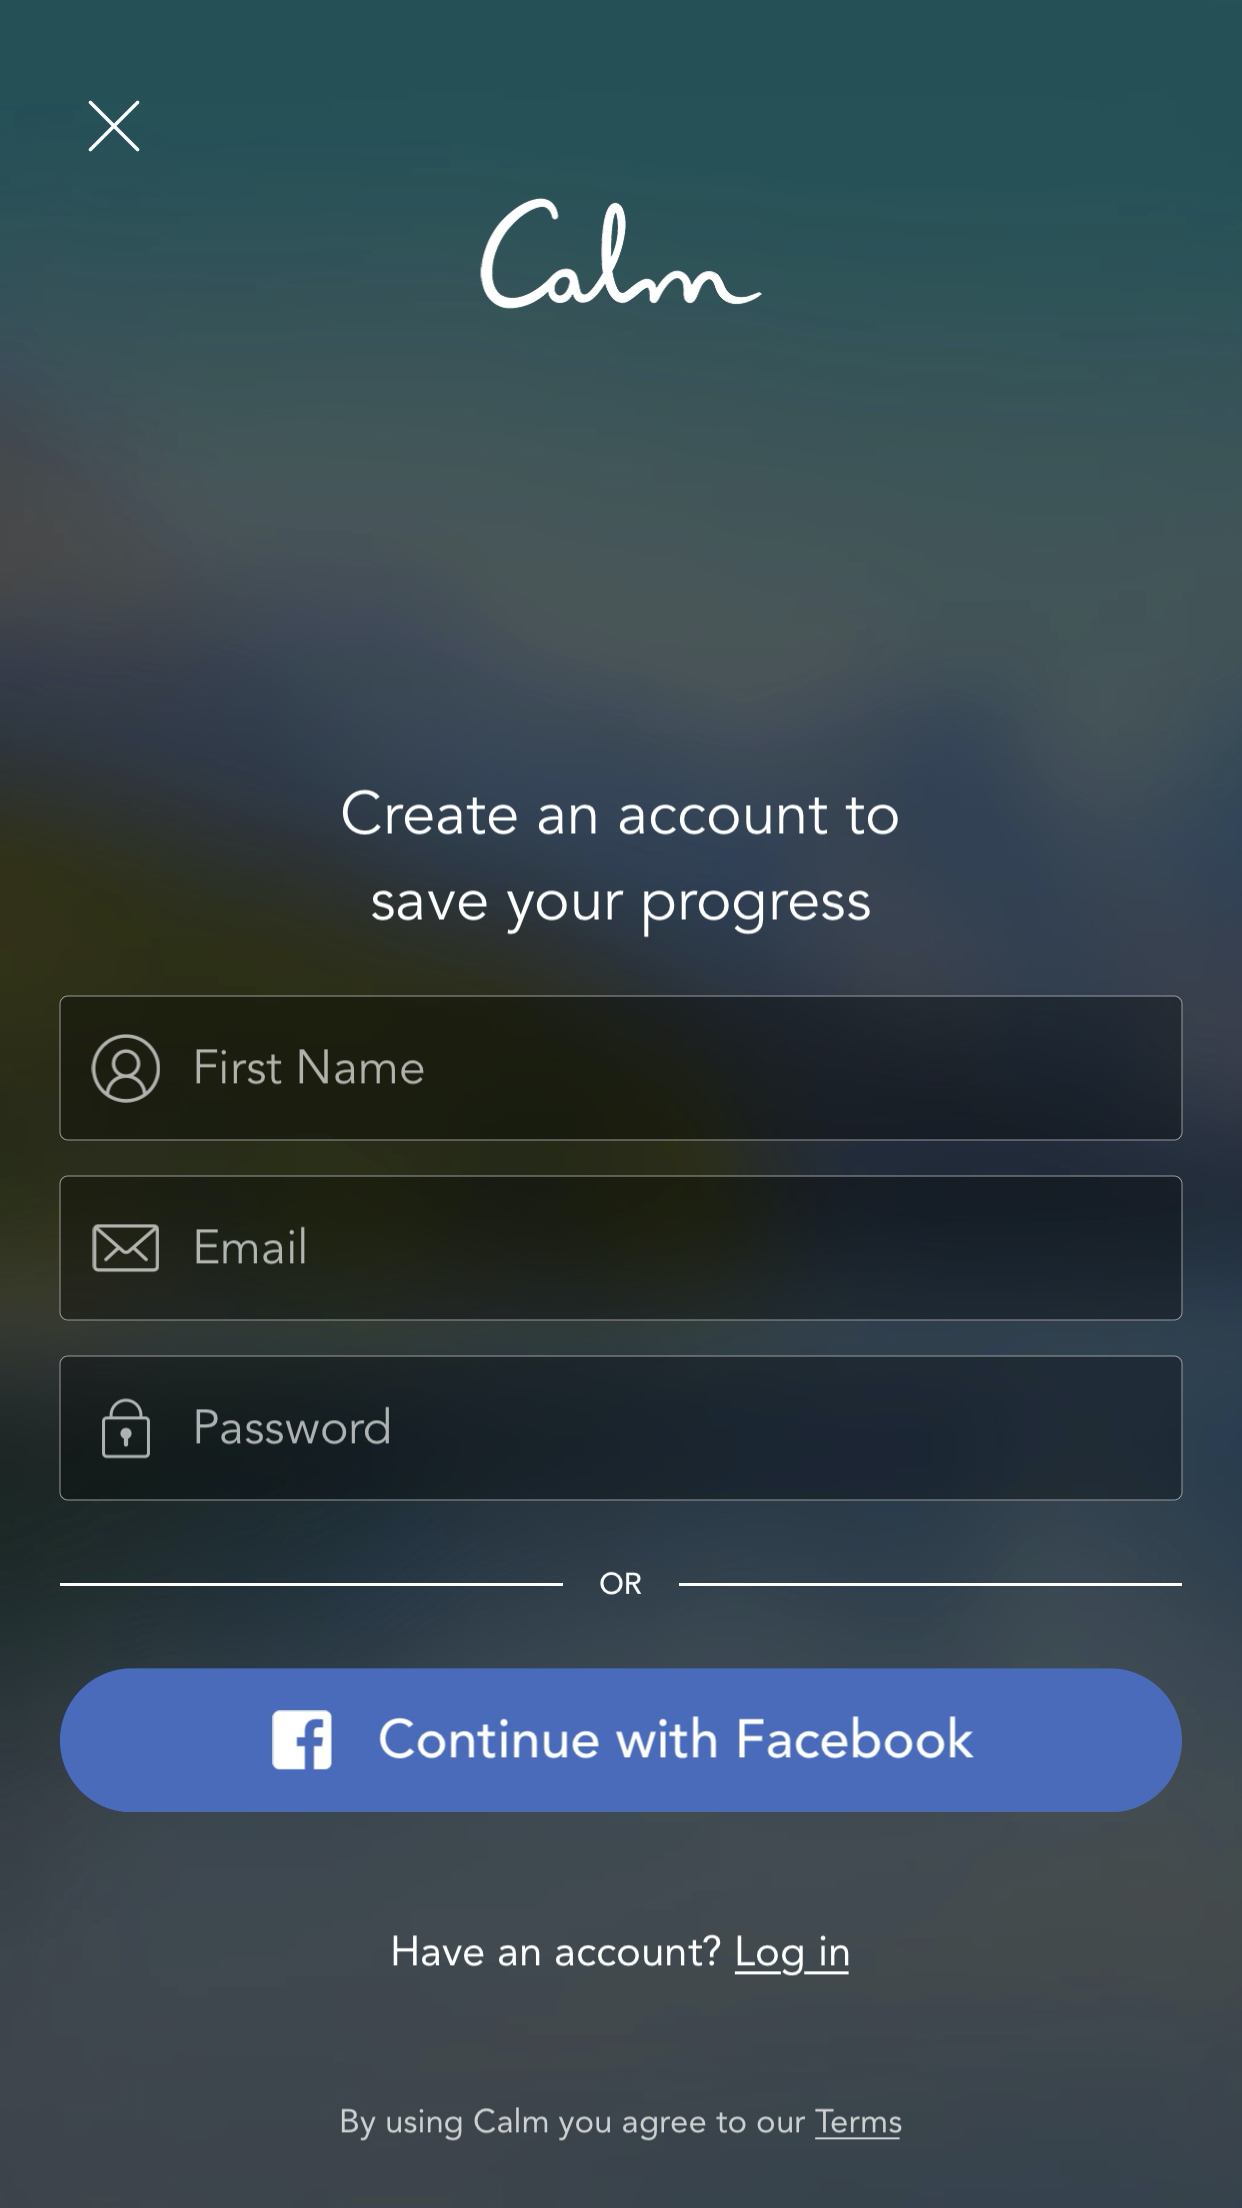EditText: (59, 995, 1183, 1142), (61, 1175, 1184, 1322), (59, 1356, 1183, 1501)
Icon: (91, 1034, 162, 1106), (93, 1224, 161, 1272), (102, 1398, 152, 1460), (88, 100, 141, 155)
Image: (479, 199, 763, 311)
Text: (343, 789, 899, 939), (391, 1934, 851, 1977), (341, 2106, 902, 2141), (197, 1049, 425, 1086), (196, 1407, 390, 1447), (196, 1225, 306, 1266), (601, 1571, 643, 1595)
TextButton: (59, 1667, 1181, 1814)
